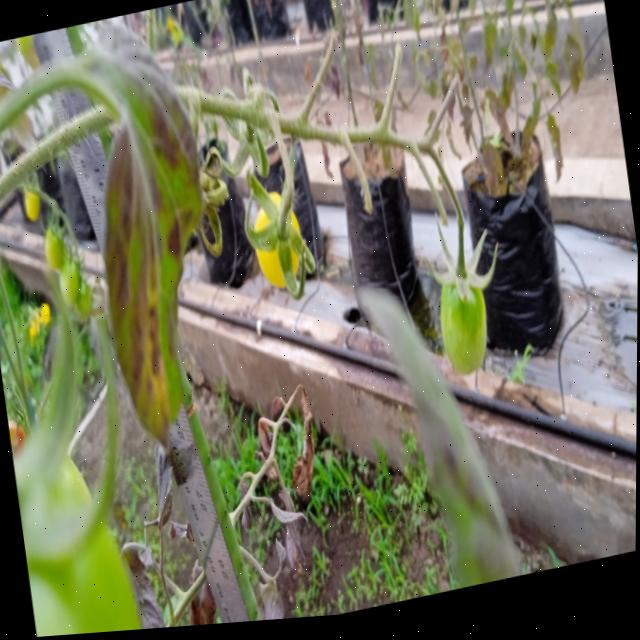fine: (239, 198, 320, 306), (17, 180, 45, 222)
unripe: (9, 378, 147, 639), (437, 256, 507, 402), (44, 255, 87, 313), (38, 238, 75, 277)
